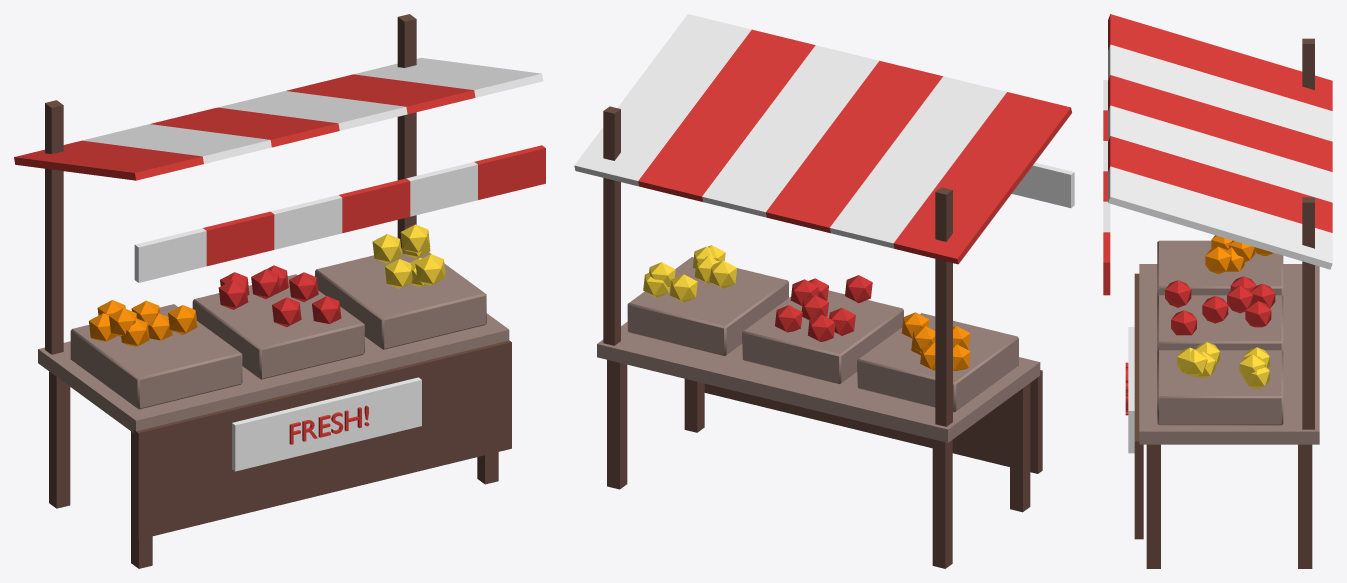
File: streets_fruitstand.glb
3 renders of one model, left to right at view 1: azimuth 30°, elevation 25°; view 2: azimuth 150°, elevation 25°; view 3: azimuth 270°, elevation 25°, orthographic. The views are drawn at different scales.
Visible parts, largest first — view 1: Stand_body, Awning; view 2: Awning, Stand_body; view 3: Awning, Stand_body.
Boxes of the visible parts, x1,y1,x2,y2 form: Stand_body: (38,14,511,568); Awning: (14,57,545,282); Awning: (574,14,1074,264); Stand_body: (597,106,1042,568); Awning: (1103,14,1332,295); Stand_body: (1125,38,1319,568).
Size of the model in its own units: 2.4 by 2.34 by 1.27.
